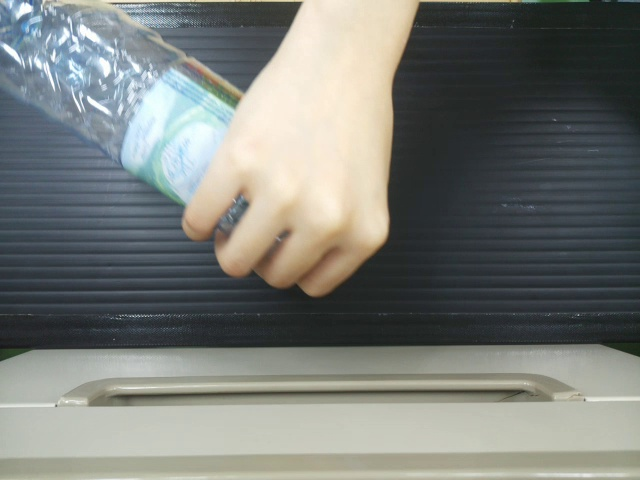bottle: (0, 0, 230, 233)
